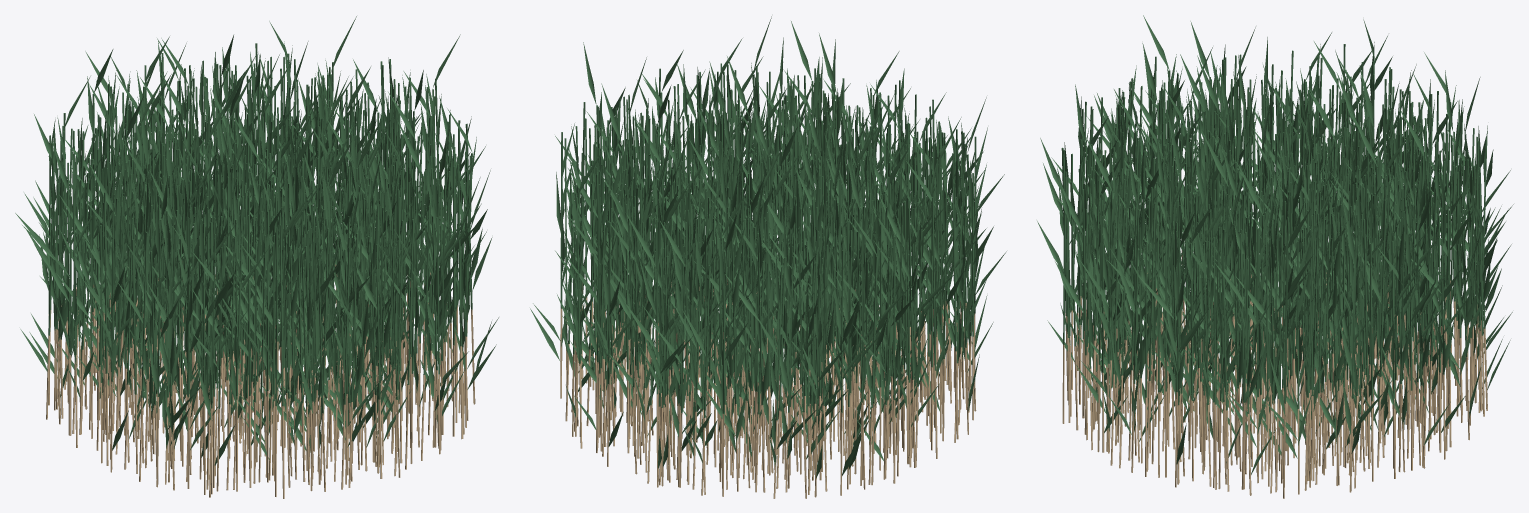
Rendered from SM_Reeds_Cluster.glb.
3 renders of one model, left to right at view 1: azimuth 30°, elevation 25°; view 2: azimuth 150°, elevation 25°; view 3: azimuth 270°, elevation 25°, orthographic. The views are drawn at different scales.
Parts seen in each view (by area): view 1: SM_ReedCluster_Applied; view 2: SM_ReedCluster_Applied; view 3: SM_ReedCluster_Applied.
Part boxes in pixels (x1=…): SM_ReedCluster_Applied: x1=15, y1=16, x2=498, y2=498; SM_ReedCluster_Applied: x1=530, y1=16, x2=1006, y2=498; SM_ReedCluster_Applied: x1=1037, y1=15, x2=1513, y2=498.
Bounding box in the file's own units: 6.48 × 5.09 × 6.61.
